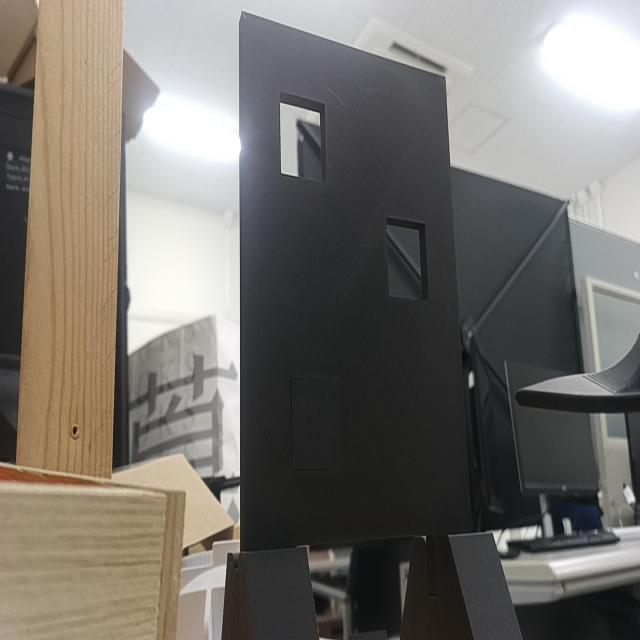Obstacle: (280, 92, 327, 181), (385, 217, 430, 303)
Wall: (239, 12, 472, 550)
